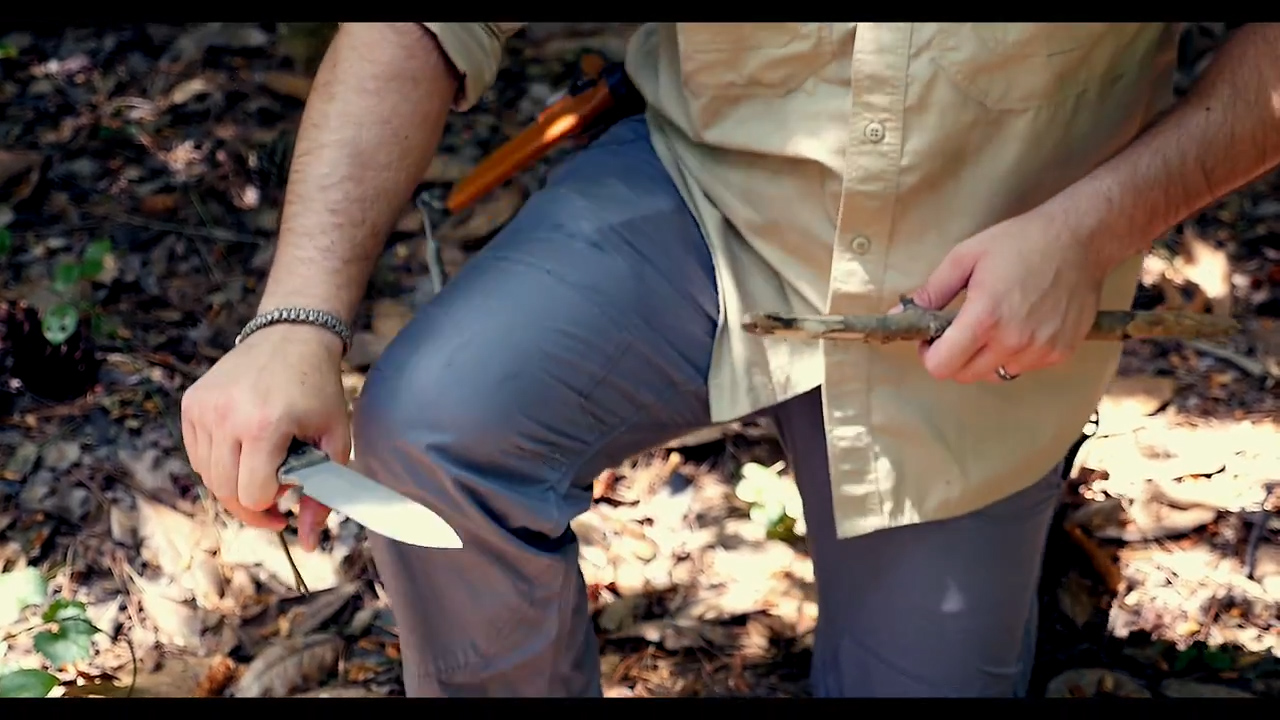knife: (177, 387, 473, 557)
